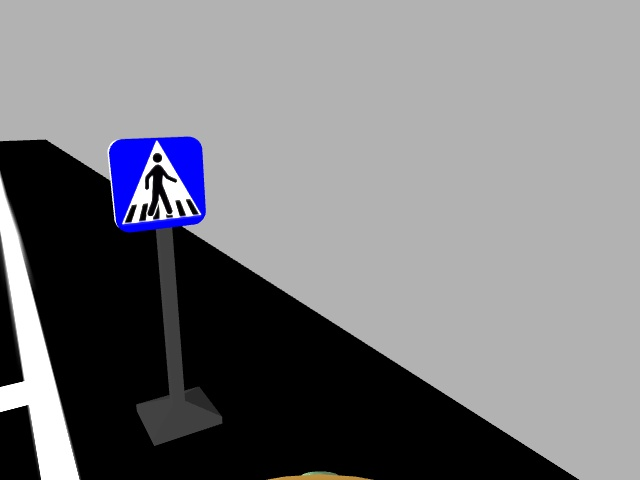Crosswalk: (103, 133, 212, 230)
